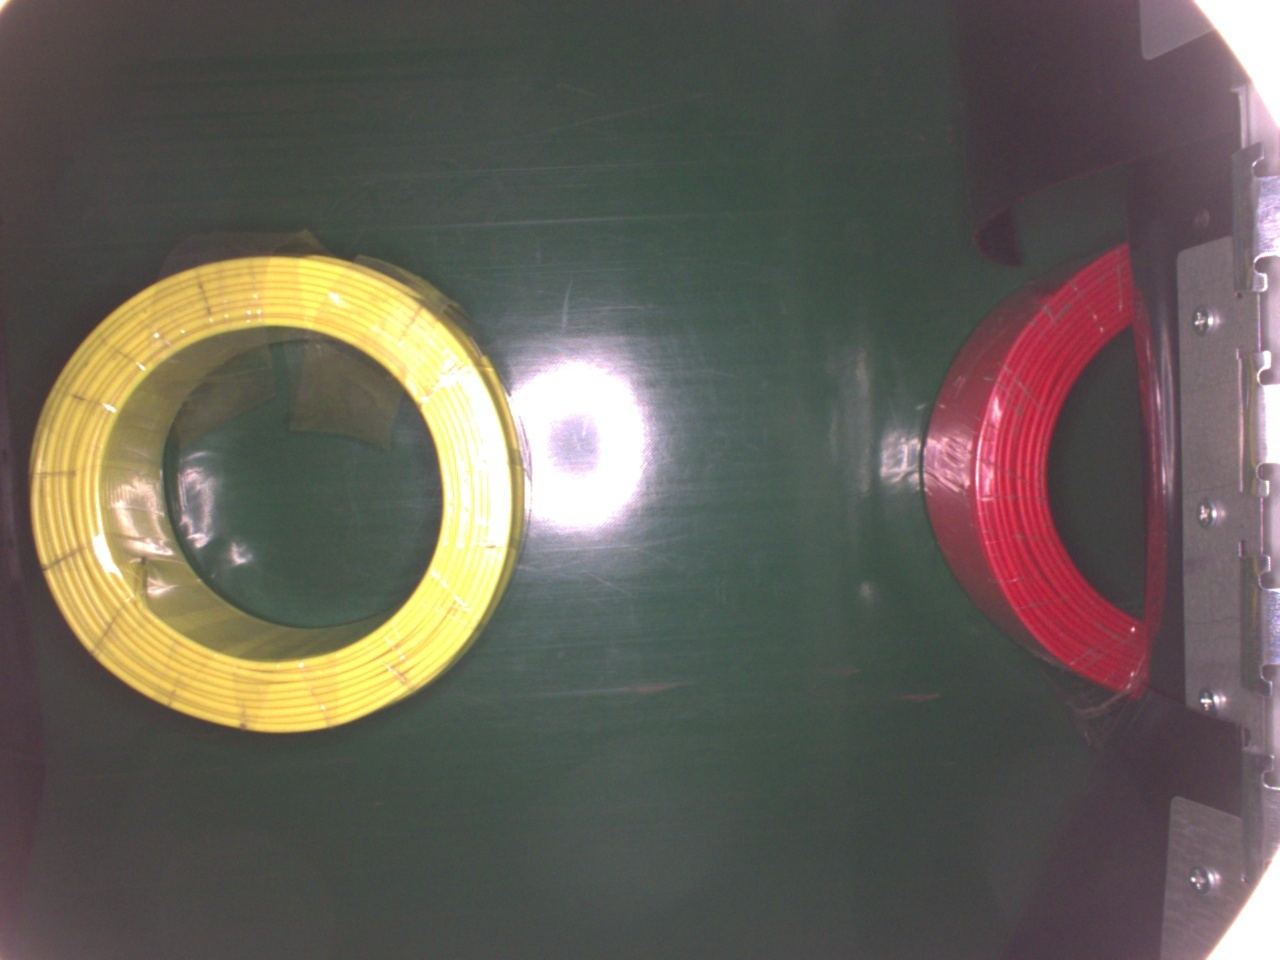red: (918, 231, 1154, 696)
yellow: (31, 251, 524, 738)
